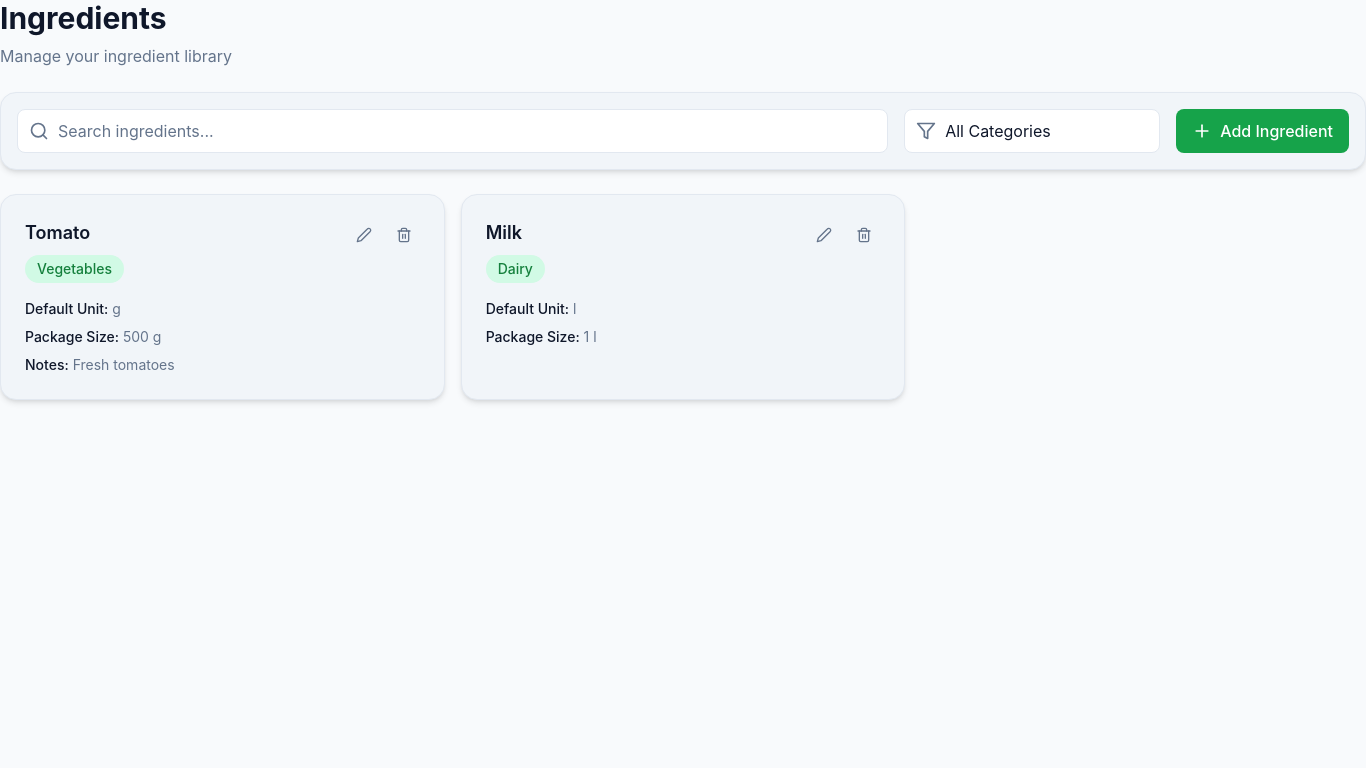
IngredientsPage › opens edit form with pre-filled data
Expected: the heading "Tomato" is shown, [25,219,90,247]
// Click edit button
Click the 1st button named "edit ingredient" at {"x": 364, "y": 235}, box [348,219,380,251]
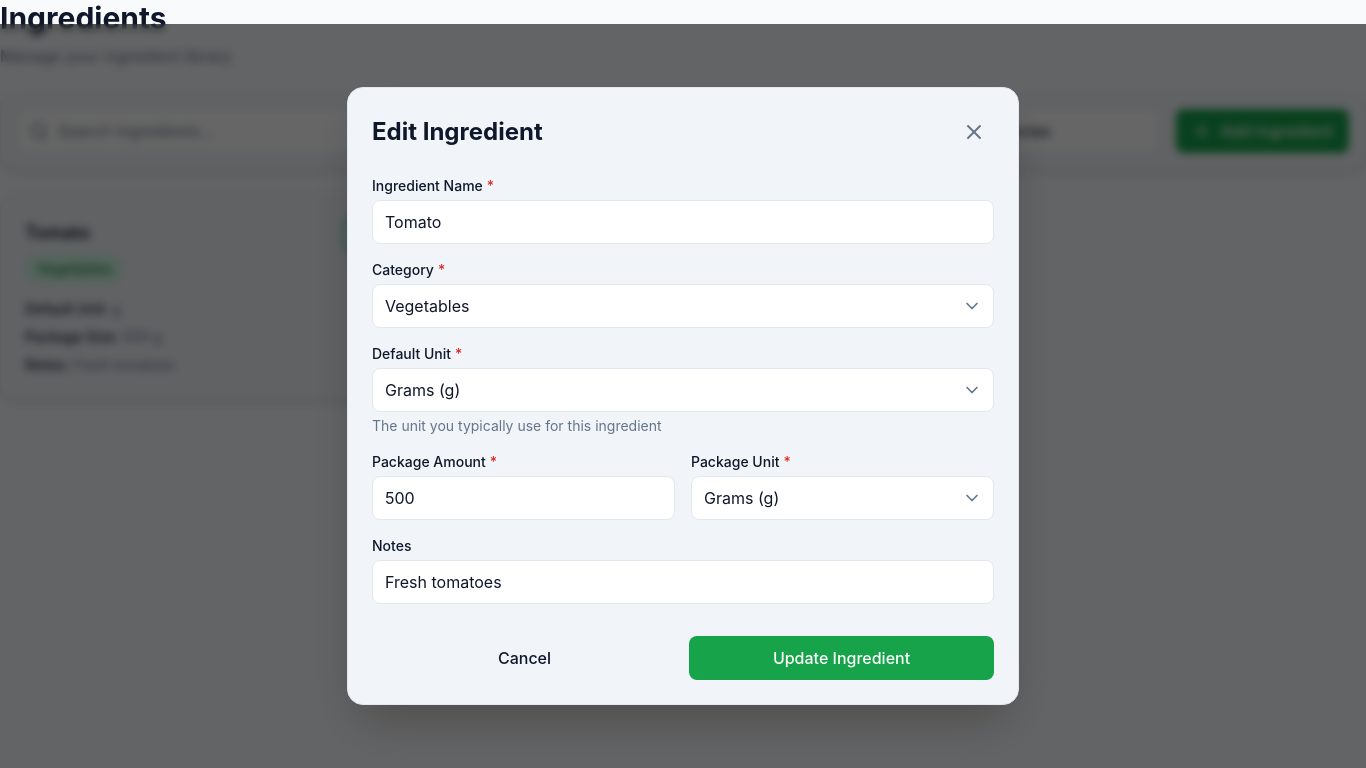
Expected: the heading "Edit Ingredient" is shown, [372,116,543,148]
Expected: the field showing "Tomato" is shown, [372,200,994,244]
Expected: the number field showing "500" is shown, [372,476,675,520]
